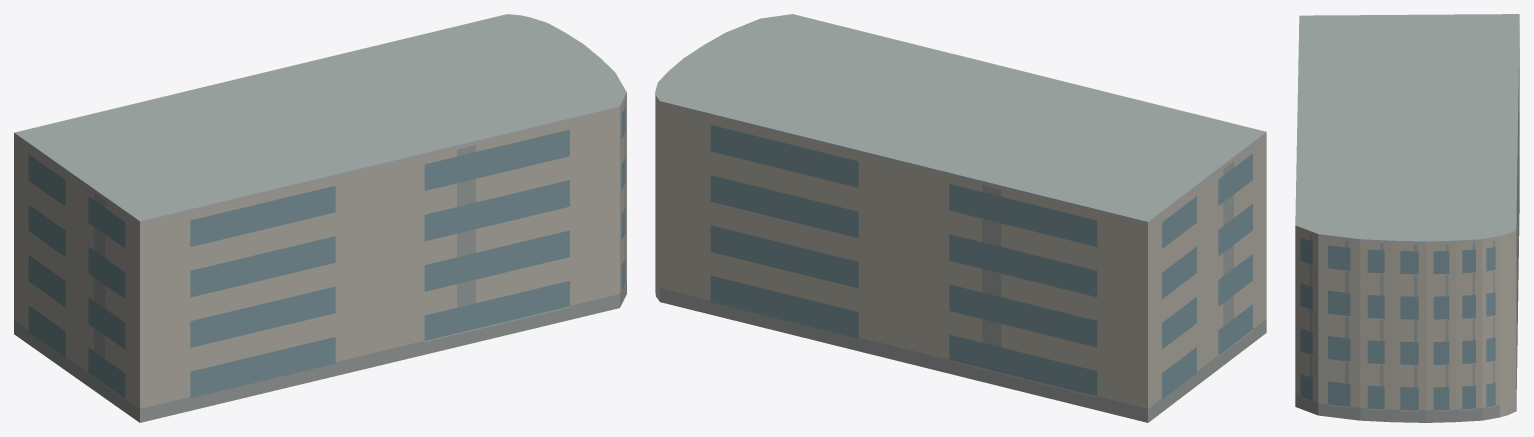
File: survey-upis-33047324.glb
3 views of the same model, side by side, from view 1: azimuth 30°, elevation 25°; view 2: azimuth 150°, elevation 25°; view 3: azimuth 270°, elevation 25° (orthographic). The views are drawn at different scales.
Parts seen in each view (by area): view 1: survey-upis-33047324.tmp; view 2: survey-upis-33047324.tmp; view 3: survey-upis-33047324.tmp.
Part boxes in pixels (x1,y1,x2,y2): survey-upis-33047324.tmp: (14, 14, 626, 422); survey-upis-33047324.tmp: (655, 14, 1266, 422); survey-upis-33047324.tmp: (1295, 14, 1519, 422).
Size of the model in its own units: 32.81 by 12.2 by 13.68.
